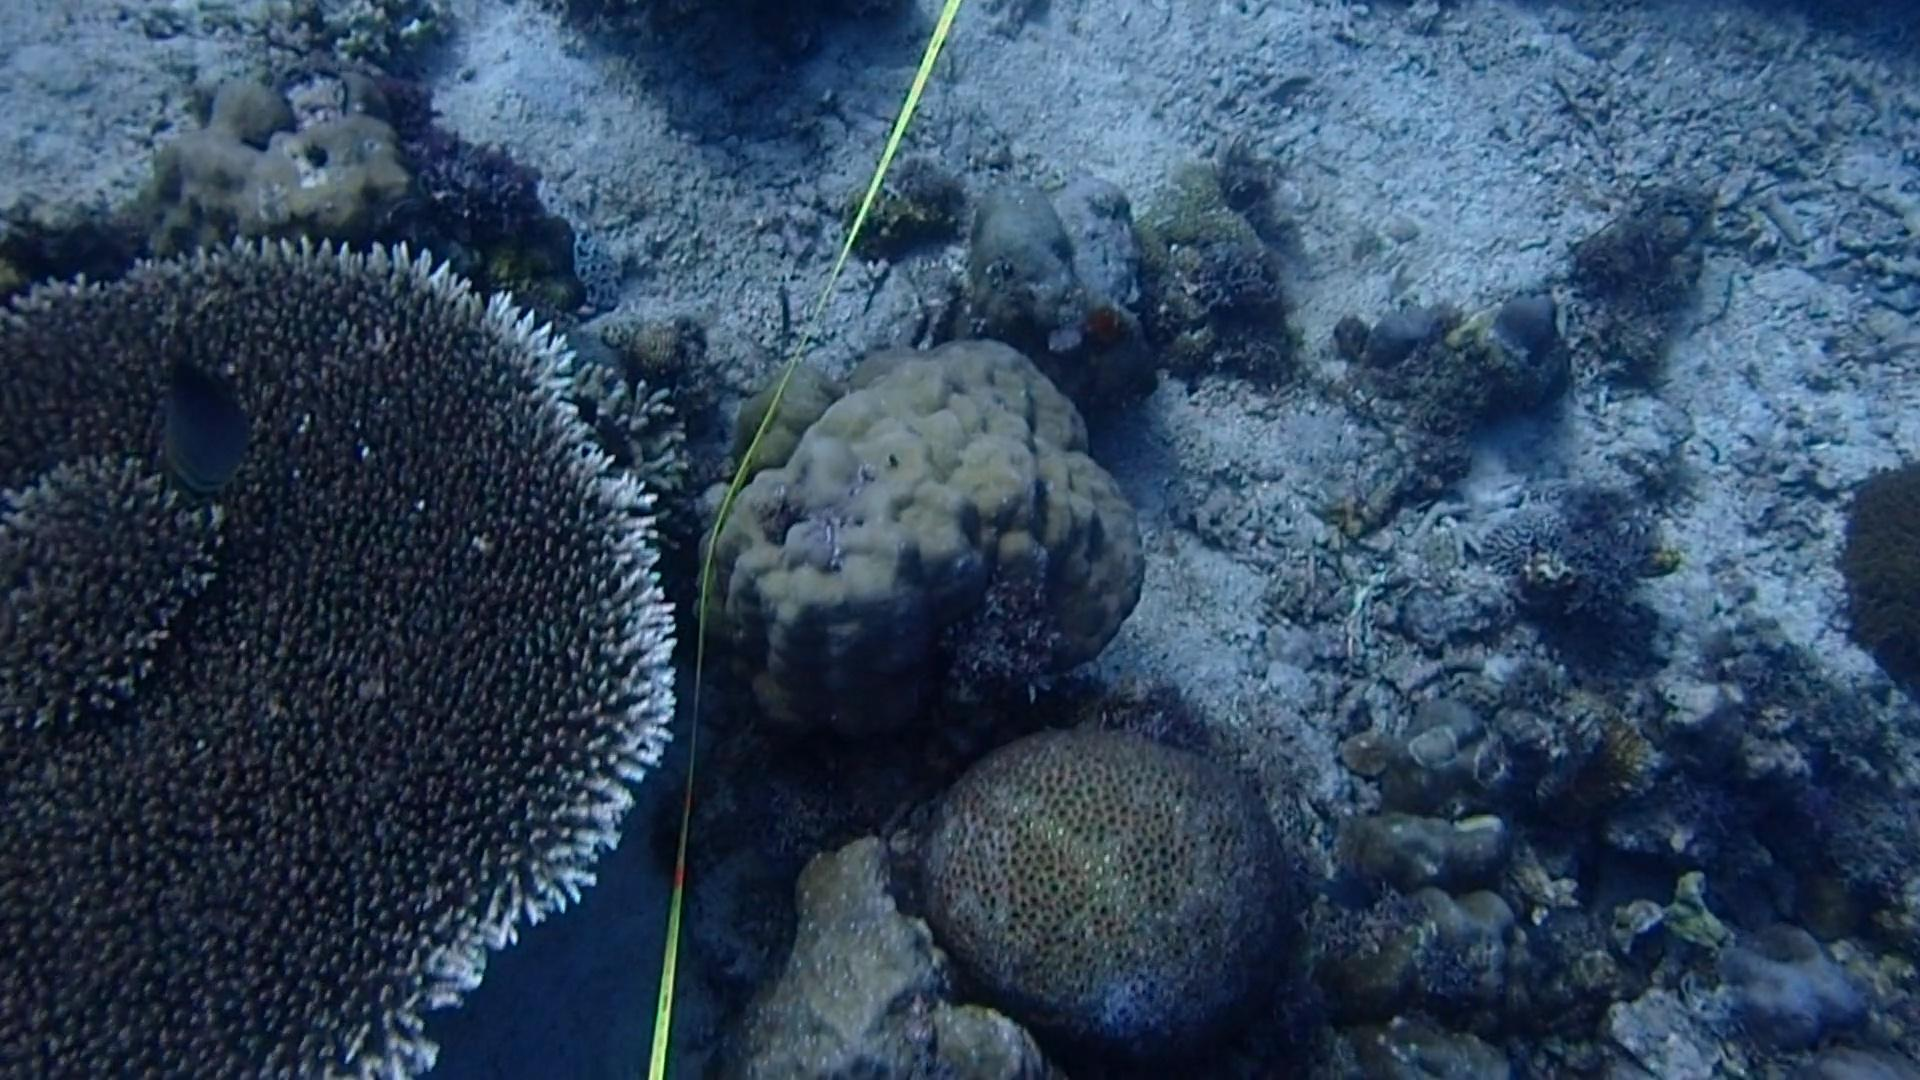Dark Blue Dory: (135, 336, 266, 500)
Light Fish: (1299, 860, 1377, 922)
